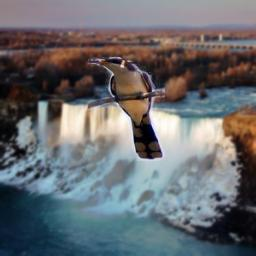Cuckoo: (88, 57, 165, 161)
